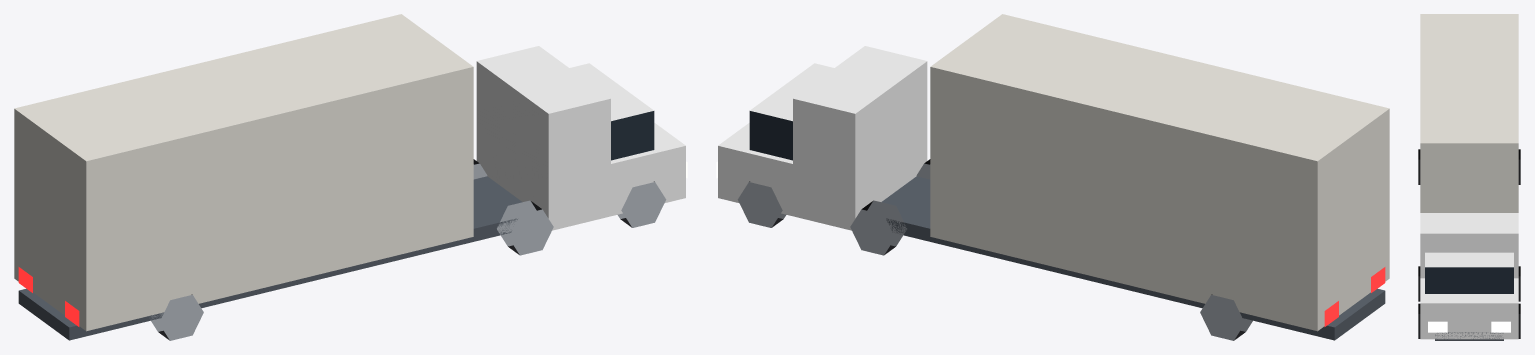
Rendered from semi_box.glb.
The picture shows the model from 3 angles, left to right: view 1: azimuth 30°, elevation 25°; view 2: azimuth 150°, elevation 25°; view 3: azimuth 270°, elevation 25°; orthographic projection. The views are drawn at different scales.
Parts seen in each view (by area): view 1: semi_box; view 2: semi_box; view 3: semi_box.
Boxes of the visible parts, box(x1,y1,x2,y2) form: semi_box: box(14, 14, 687, 340); semi_box: box(716, 14, 1389, 340); semi_box: box(1418, 14, 1520, 340).
Bounding box in the file's own units: 0.982 × 0.304 × 0.208.
